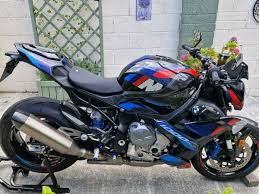motorcycle: (2, 30, 259, 183)
